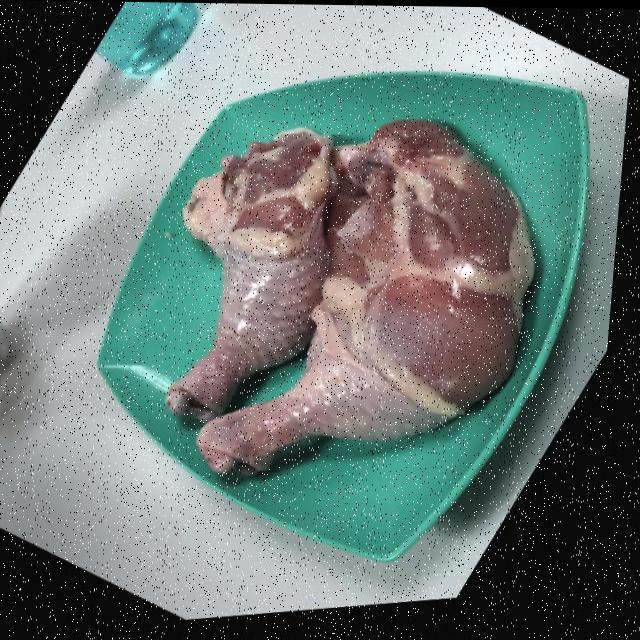quater: (207, 116, 560, 490), (175, 132, 318, 402)
